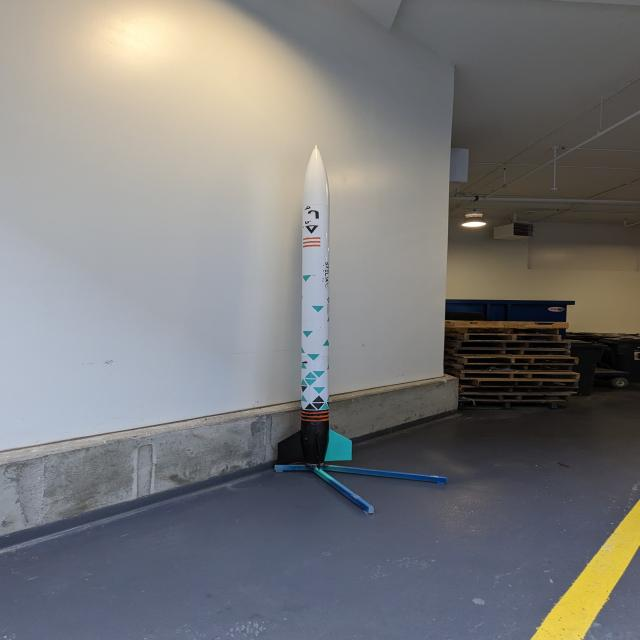Rocket: (277, 144, 353, 471)
